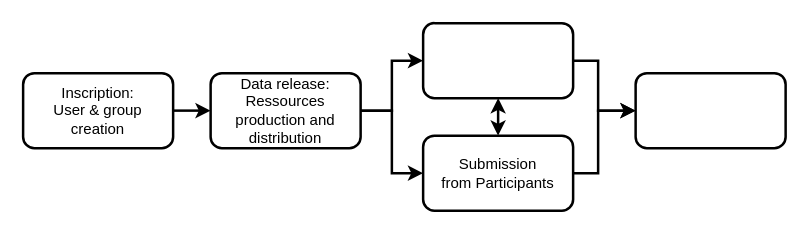
Some shapes in this 808 by 233 pixel diagram are drawn without their labels. Here are the shapes that lost their labels. From the top down, the centre of each, then its label:
the point at 497,60: Manual annotations
the point at 710,110: Evaluation (leaderboard)
